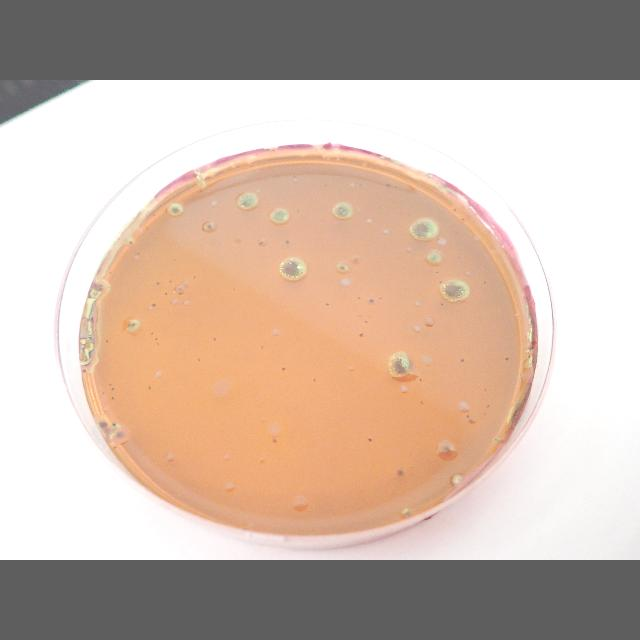colony: (278, 256, 308, 282), (442, 278, 471, 302), (410, 218, 440, 240), (391, 356, 415, 374), (269, 206, 291, 224), (236, 192, 258, 210), (437, 442, 457, 461), (332, 201, 352, 219), (426, 251, 442, 263), (170, 203, 182, 214), (126, 321, 138, 332), (98, 420, 108, 430), (116, 429, 126, 438), (338, 264, 348, 272), (204, 222, 213, 230), (396, 468, 404, 477), (352, 256, 360, 262), (176, 286, 184, 292), (404, 509, 410, 517), (272, 437, 278, 445), (494, 437, 501, 443), (358, 332, 364, 338), (368, 298, 374, 304), (386, 182, 392, 188), (284, 239, 290, 245), (258, 240, 264, 246), (128, 240, 134, 246), (151, 302, 157, 308), (110, 386, 116, 392), (111, 421, 117, 427), (367, 436, 373, 442), (468, 417, 474, 423), (164, 290, 168, 298), (378, 297, 384, 301), (356, 296, 362, 300), (324, 302, 330, 306), (434, 271, 440, 275), (438, 280, 444, 284), (440, 301, 444, 307), (483, 280, 487, 286), (296, 208, 300, 214), (236, 238, 242, 242), (136, 250, 140, 256), (150, 331, 154, 337), (154, 336, 158, 342), (105, 338, 109, 344), (148, 385, 152, 391), (102, 390, 106, 396), (420, 399, 424, 405), (483, 410, 487, 416), (427, 200, 431, 206), (313, 377, 317, 383), (282, 366, 286, 372), (260, 344, 264, 350), (198, 188, 202, 194), (200, 182, 204, 188), (82, 368, 86, 374), (192, 274, 195, 280), (364, 320, 368, 324), (454, 231, 458, 235), (436, 238, 440, 242), (394, 185, 398, 189), (358, 183, 362, 187), (324, 184, 328, 188), (152, 213, 156, 217), (146, 226, 150, 230), (169, 279, 173, 283), (156, 342, 160, 346), (108, 382, 112, 386), (114, 445, 118, 449), (419, 378, 423, 382), (466, 414, 470, 418), (486, 404, 490, 408), (460, 358, 464, 362), (504, 356, 508, 360), (378, 206, 382, 210), (214, 336, 216, 342), (112, 396, 115, 400), (110, 270, 112, 276), (408, 212, 410, 216), (454, 208, 456, 212), (174, 258, 176, 262), (156, 282, 160, 284), (232, 288, 236, 290), (266, 296, 268, 300), (198, 357, 200, 361), (484, 388, 486, 392), (461, 218, 464, 220), (457, 256, 459, 258)
